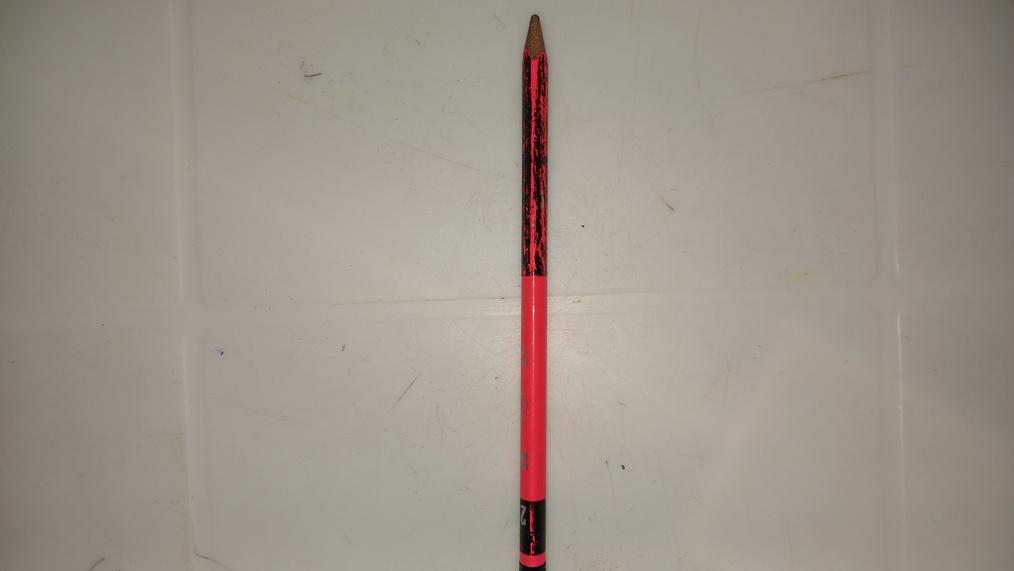Pencil: (520, 6, 549, 571)
